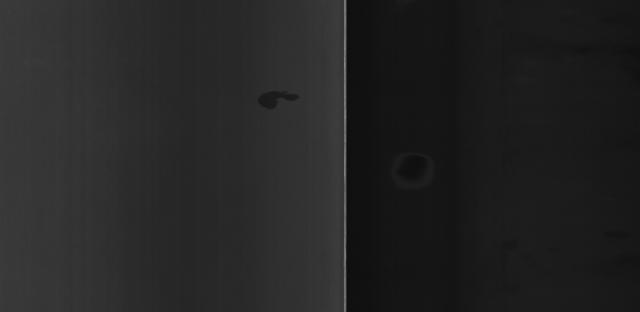oil_spot: (249, 82, 307, 119)
